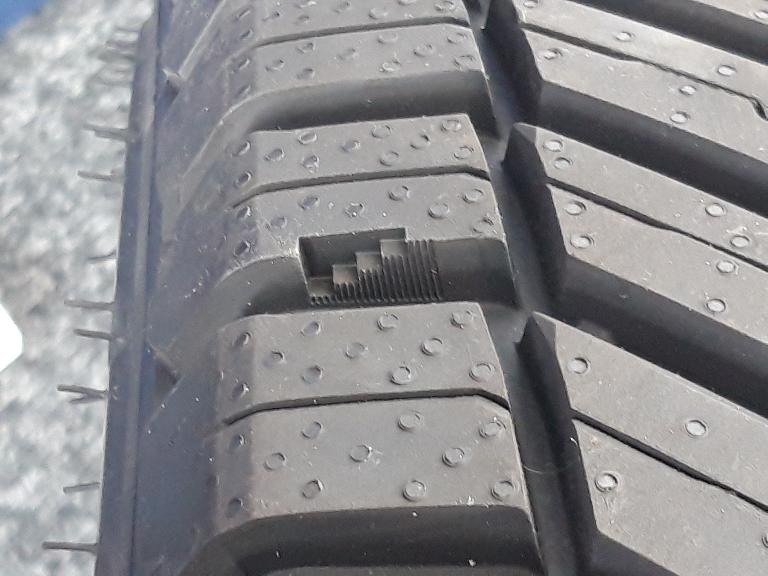temoin:100: (293, 225, 448, 309)
